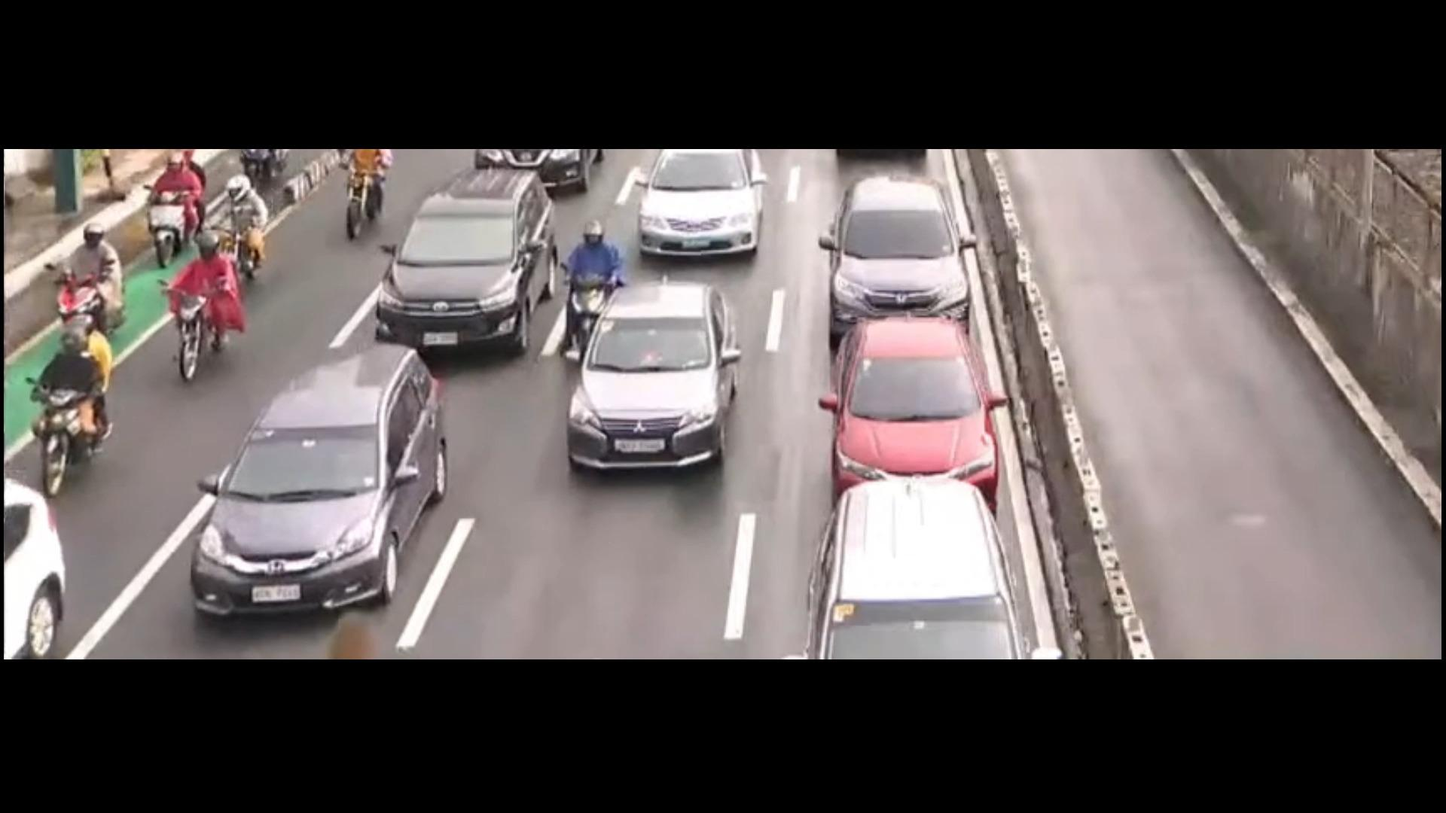Motorcycle: (15, 320, 147, 499), (153, 238, 263, 414), (546, 217, 654, 387), (33, 221, 132, 360), (119, 134, 209, 273), (329, 151, 409, 252), (222, 181, 281, 267), (241, 149, 294, 205)
SUV: (159, 340, 504, 608), (801, 482, 1040, 660), (793, 305, 1021, 488), (347, 168, 556, 363), (826, 174, 983, 322)
Sedan: (554, 266, 763, 483), (612, 145, 778, 258)
